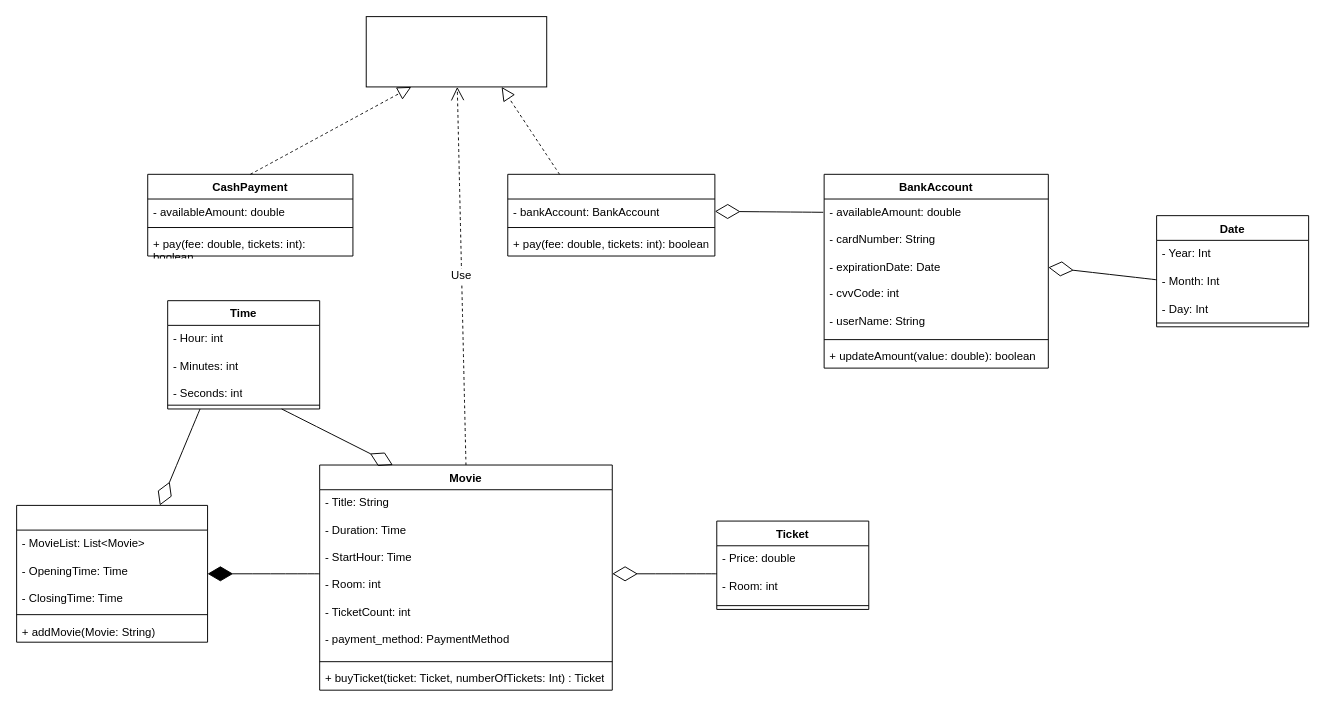
Image size: 1325x710. Some labels were removed from this diagram. The shapes that lost their labels are listed below. From the top down, each one's box as (x1, y1, x2, y2) in pixels, then its label:
(365, 16, 547, 87): <<Interface>> PaymentMethod + pay(fee: double): boolean
(507, 173, 715, 256): CardPayment
(16, 504, 208, 642): Cinema
